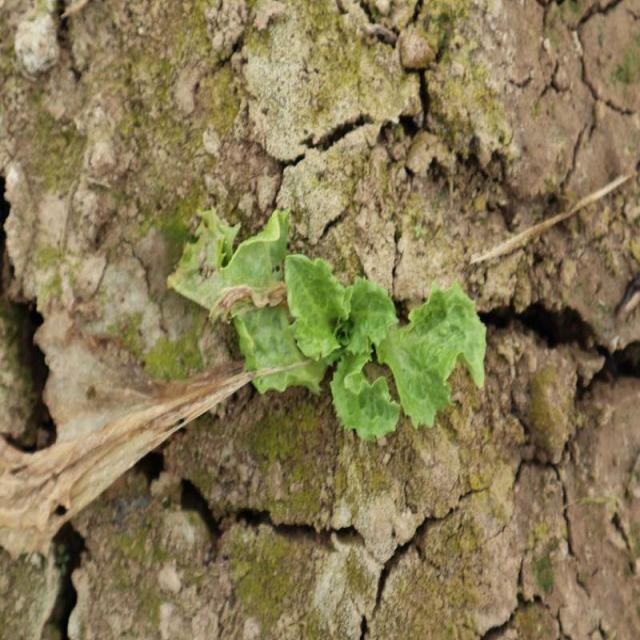crop: (169, 202, 489, 446)
